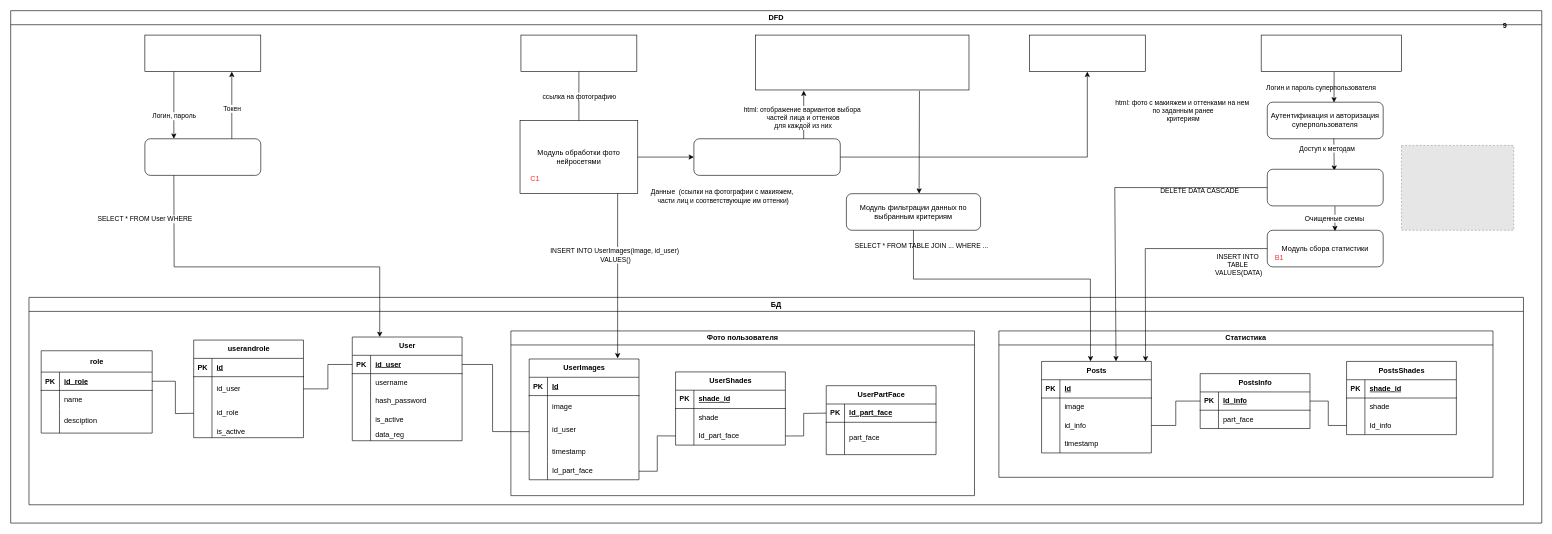
Some shapes in this 1552 by 534 pixel diagram are drawn without their labels. Grey dashed boxes stand in for pictures. The centre of each missing label's shape, as x and y in pixels:
"Авторизация" belongs at [202,53].
"Аутентификация" belongs at [202,156].
"Выбор критериев для отбора фотографий с макияжем из БД" belongs at [862,62].
"Загрузка фотографии" belongs at [578,53].
"Интерфейс администратора (django administration)" belongs at [1331,53].
"Интерфейс результата" belongs at [1087,53].
"Удаление данных (связанных данных из таблиц" belongs at [1325,187].
"Формирование представления данных в файле html" belongs at [766,156].
